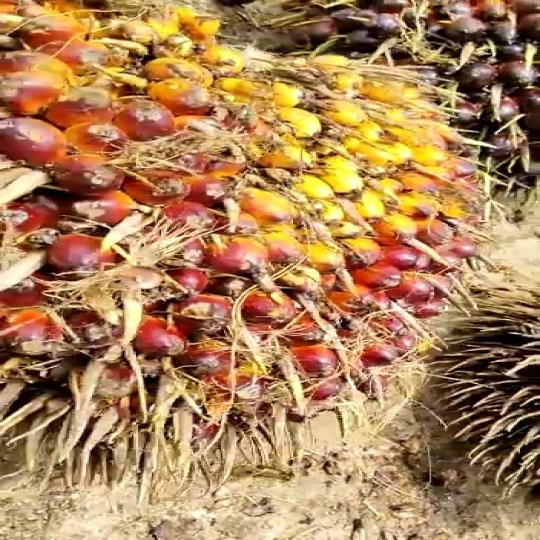masak: (0, 0, 469, 480)
